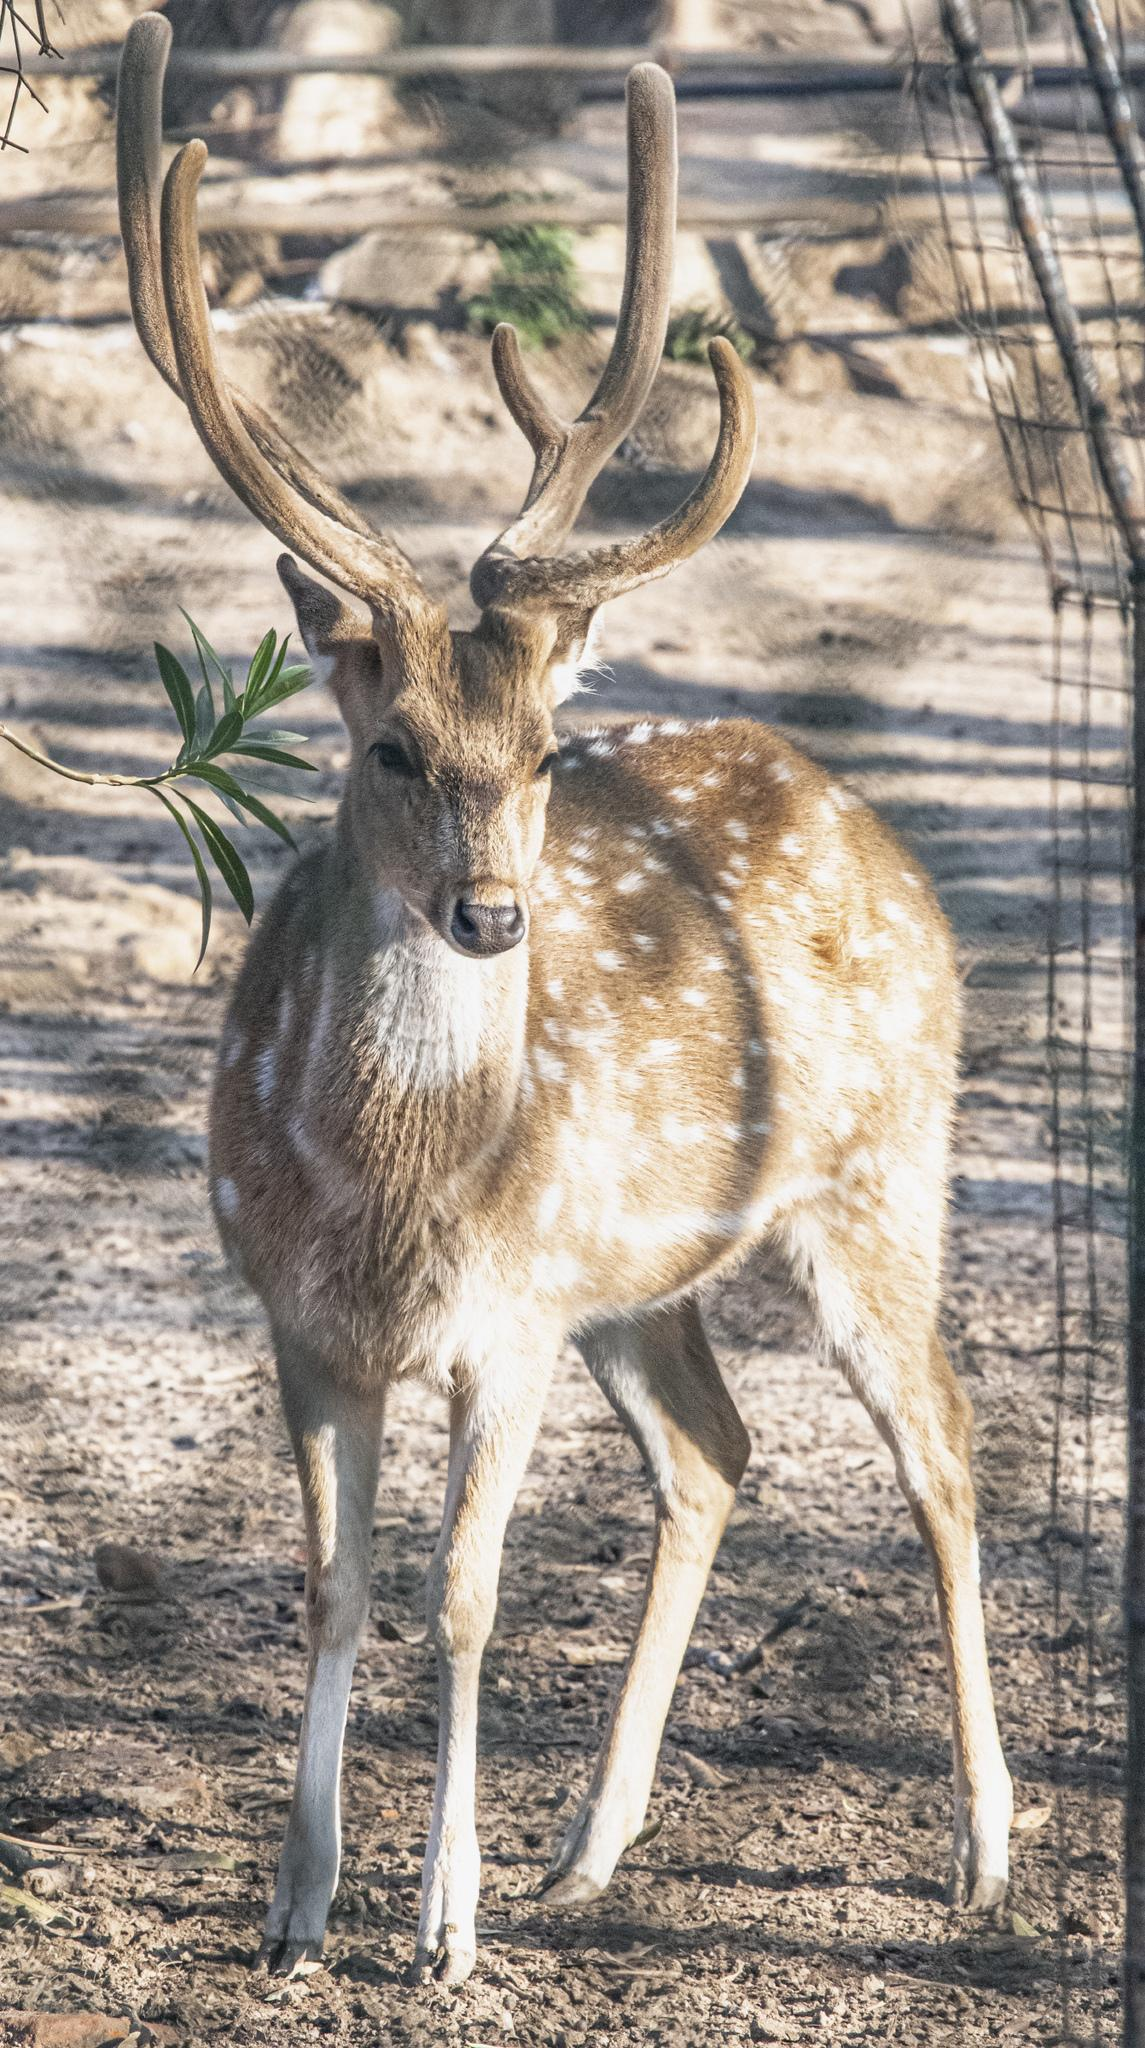Deer: (116, 14, 1009, 1980)
